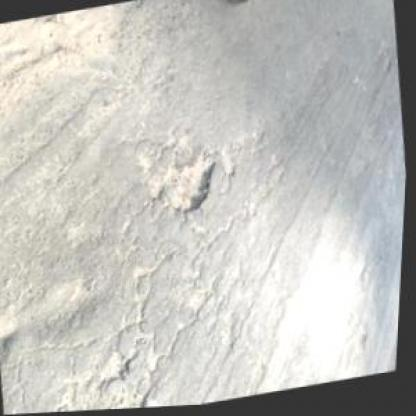pothole: (150, 150, 224, 222), (98, 351, 138, 391)
